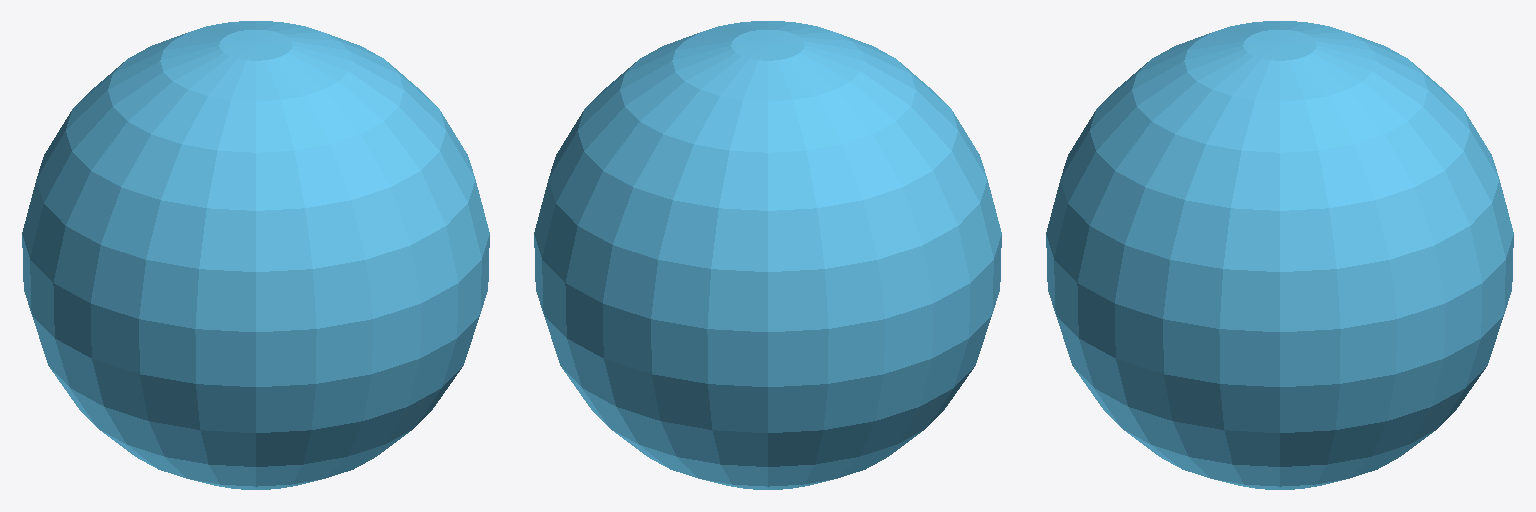
The model's file is ball_blue.obj.
3 views of the same model, side by side, from view 1: azimuth 30°, elevation 25°; view 2: azimuth 150°, elevation 25°; view 3: azimuth 270°, elevation 25° (orthographic).
Parts seen in each view (by area): view 1: ball_blue; view 2: ball_blue; view 3: ball_blue.
Boxes of the visible parts, <box> form: ball_blue: <box>22,21,489,489</box>; ball_blue: <box>534,21,1001,489</box>; ball_blue: <box>1046,21,1513,489</box>.
Bounding box in the file's own units: 0.0699 × 0.0698 × 0.0699.